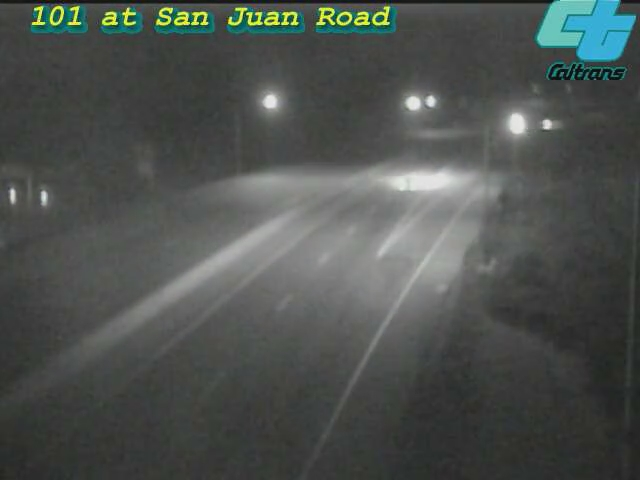vehicle: (372, 139, 452, 219), (522, 101, 572, 151), (489, 100, 539, 150)
